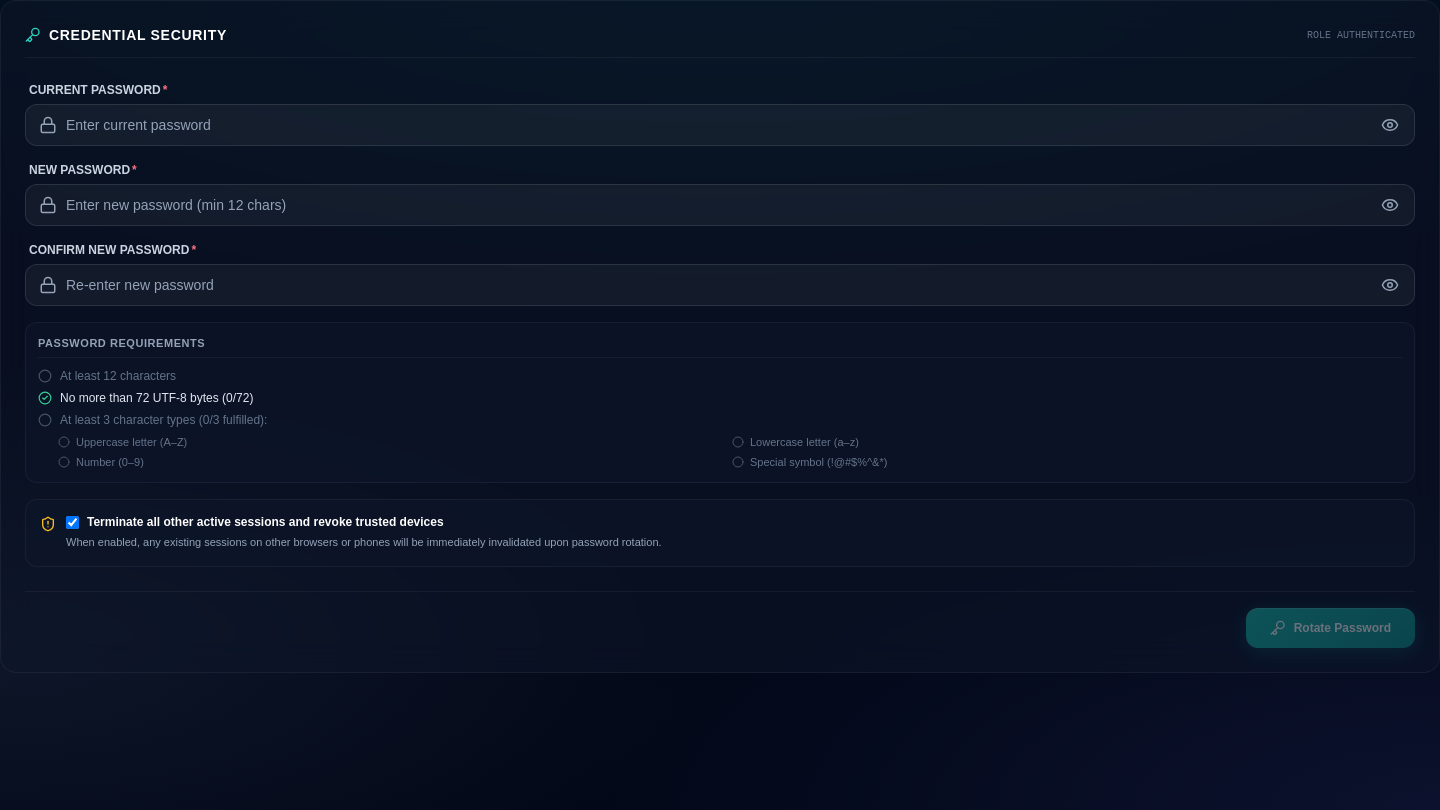
Scenario: Phase 5 (AUTH): Client Password UX & Policy Offline Suite › 6. ChangePasswordCard authenticated profile rotation › prevents submission when new password and confirm password do not match
Type "OldPassword123!" into the password field labelled "Current Password*" at (720, 125), box left=25, top=104, right=1415, bottom=146
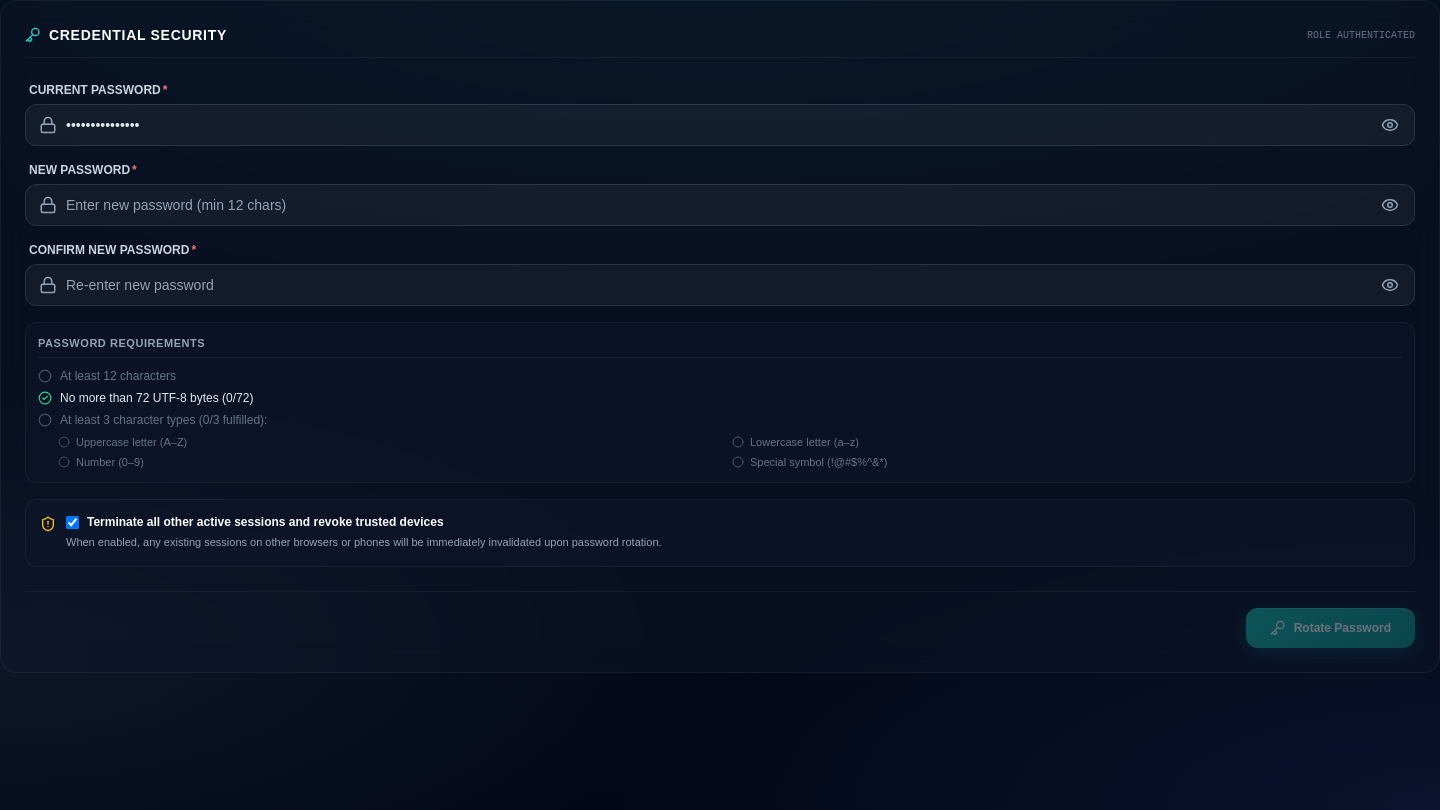
Type "NewClinicalPass123!" into the password field labelled "New Password*" at (720, 205), box left=25, top=184, right=1415, bottom=226
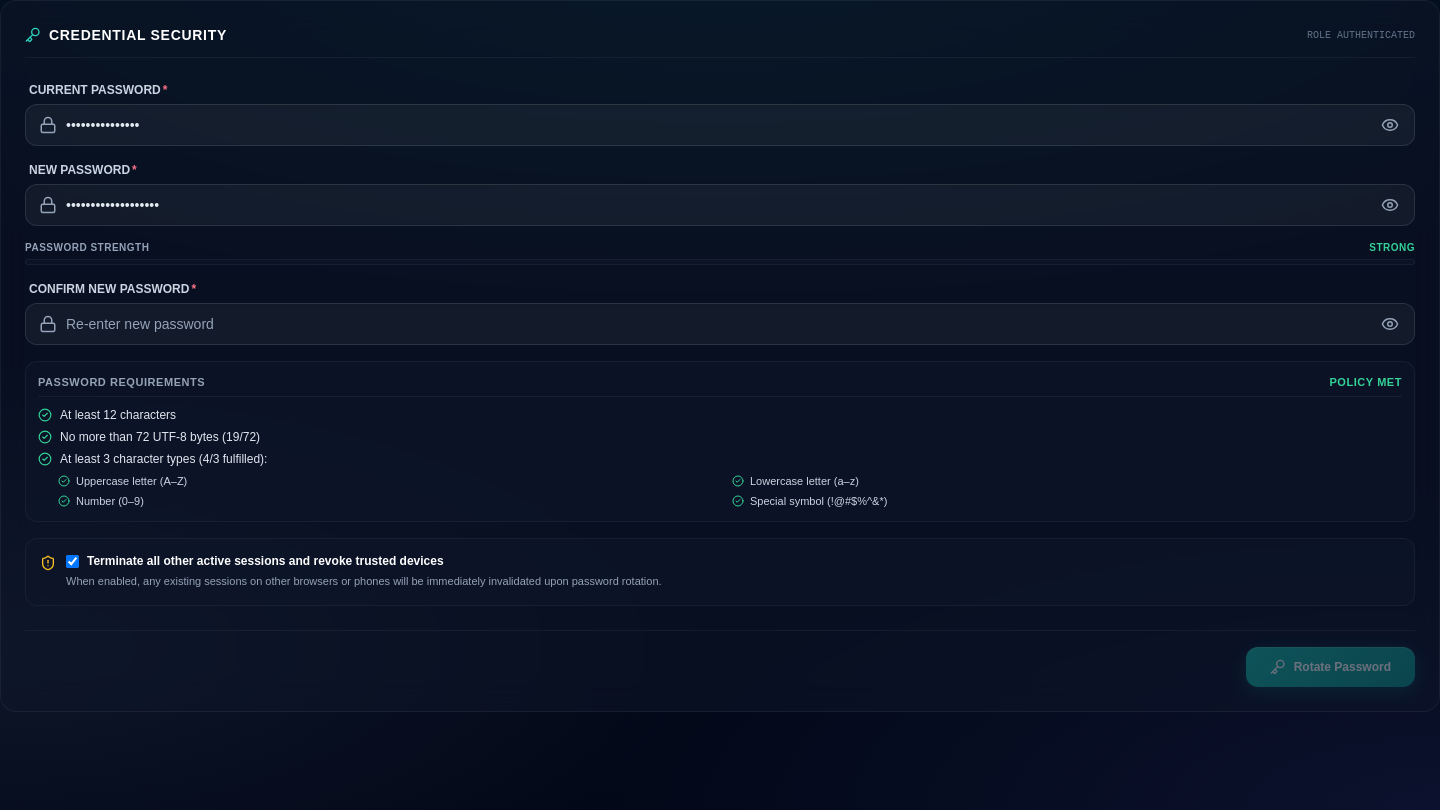
Type "DifferentPassword123!" into the password field labelled "Confirm New Password*" at (720, 324), box left=25, top=303, right=1415, bottom=345
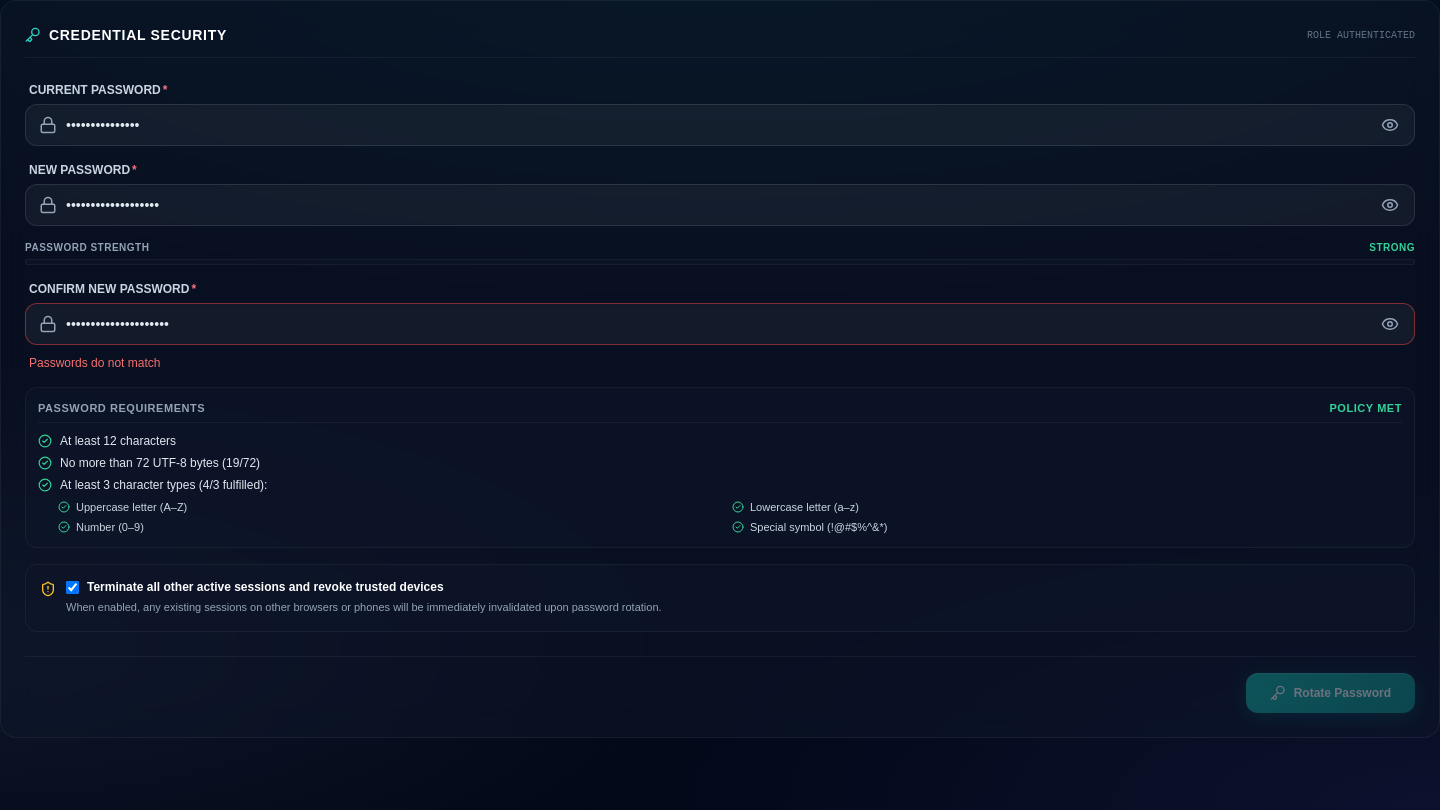
Expected: the button "Rotate Password" is disabled, left=1246, top=673, right=1415, bottom=713
Now the text "Passwords do not match" is shown, box left=29, top=356, right=160, bottom=370
